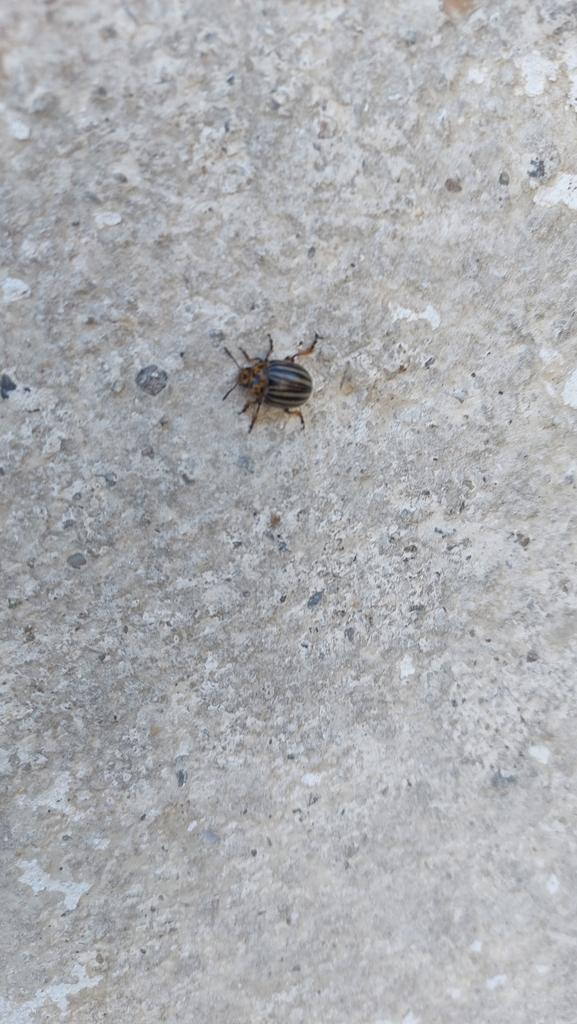potato_beetle: (190, 306, 370, 448)
